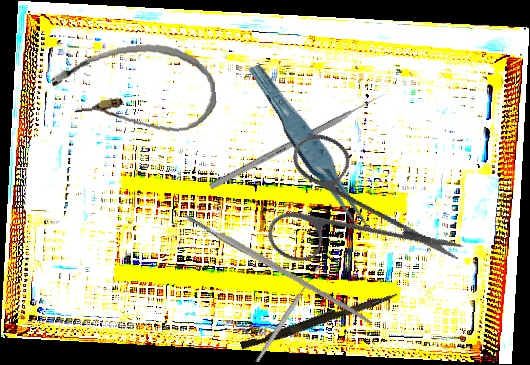Cannula: (48, 37, 220, 145)
Iris Scissors: (234, 95, 469, 330)
Pusher: (208, 90, 388, 191), (239, 286, 399, 354)
Scalpel Handle: (183, 210, 374, 327)
Surgical Spoon: (254, 264, 322, 364)
Tissue Forceps: (246, 55, 376, 248)
